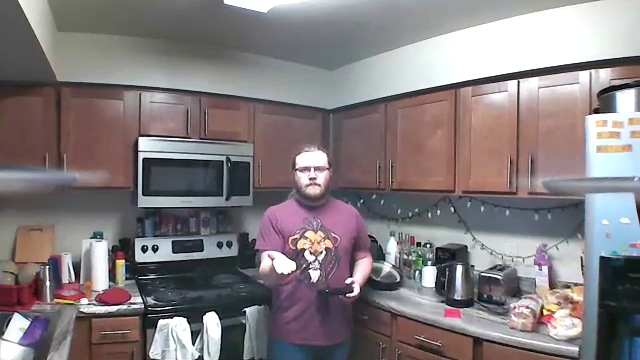land: (260, 244, 300, 276)
